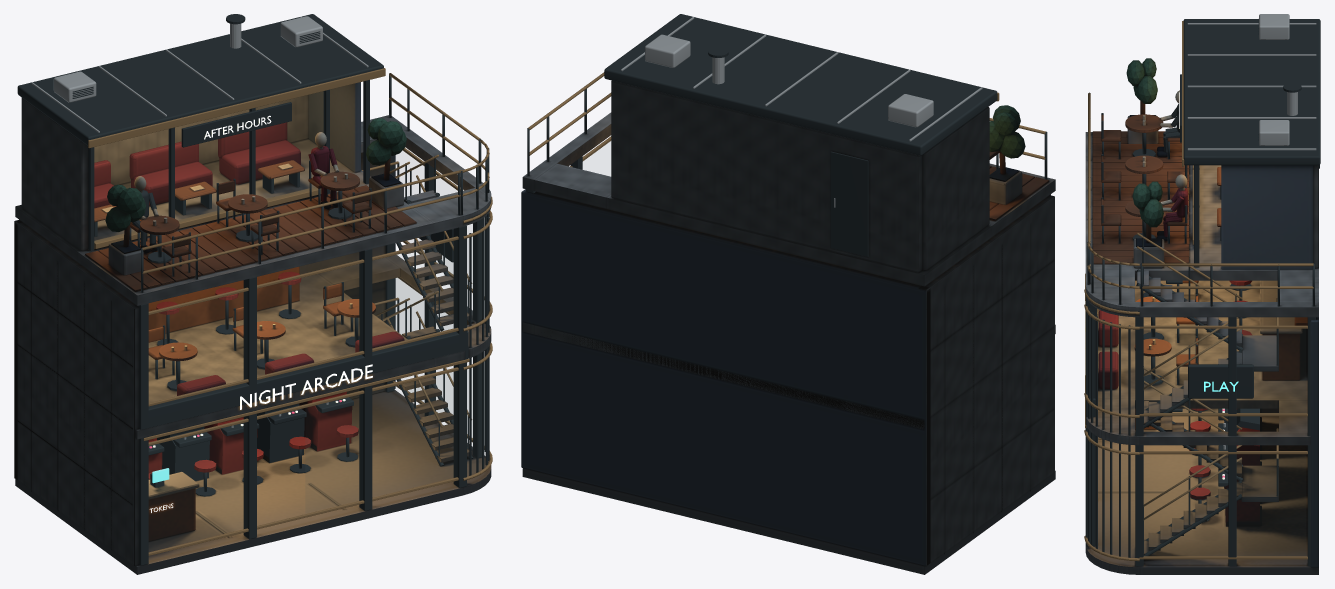
The model's file is arcade50.glb.
3 views of the same model, side by side, from view 1: azimuth 30°, elevation 25°; view 2: azimuth 150°, elevation 25°; view 3: azimuth 270°, elevation 25° (orthographic). The views are drawn at different scales.
Parts seen in each view (by area): view 1: ARCADE50R2_BAKED_DIFFUSE, A25_Pavilion roof structural plate.001, A25_Night Arcade fascia housing.001, A25_Front pier 3.001, A25_Front pier 1.001, A25_Front pier -1.001, A25_Pavilion fascia trim.001, A25_Front pier -4.001, A25_All architecturally fitted glazing.001, A25_Pavilion fascia title seat.001, A25_Ground arcade cabinet 4.001, A25_East pier -1.001 (+20 smaller); view 2: ARCADE50R2_BAKED_DIFFUSE, A25_Pavilion roof structural plate.001, A25_Pavilion rear access door.001, A25_Pavilion ventilation housing.002, A25_Pavilion ventilation housing.003; view 3: ARCADE50R2_BAKED_DIFFUSE, A25_Pavilion roof structural plate.001, A25_East pier 0.001, A25_East pier -1.001, A25_East small sign seat.001, A25_Front pier 3.001, A25_East pier 2.001, A25_Pavilion ventilation housing.002, A25_Pavilion ventilation housing.003, A25_Terrace east edge rail.003, A25_East bronze transom 0.001, A25_East bronze transom 2.001 (+17 smaller).
Part boxes in pixels (left/top/right/bottom): ARCADE50R2_BAKED_DIFFUSE: left=14, top=82, right=491, bottom=574; A25_Pavilion roof structural plate.001: left=17, top=14, right=383, bottom=145; A25_Night Arcade fascia housing.001: left=145, top=330, right=468, bottom=427; A25_Front pier 3.001: left=453, top=225, right=466, bottom=487; A25_Front pier 1.001: left=359, top=249, right=372, bottom=510; A25_Front pier -1.001: left=243, top=277, right=256, bottom=539; A25_Pavilion fascia trim.001: left=88, top=68, right=385, bottom=148; A25_Front pier -4.001: left=138, top=303, right=148, bottom=565; A25_All architecturally fitted glazing.001: left=394, top=237, right=472, bottom=438; A25_Pavilion fascia title seat.001: left=181, top=102, right=291, bottom=147; A25_Ground arcade cabinet 4.001: left=257, top=403, right=304, bottom=463; A25_East pier -1.001: left=473, top=217, right=484, bottom=457; ARCADE50R2_BAKED_DIFFUSE: left=521, top=80, right=1055, bottom=574; A25_Pavilion roof structural plate.001: left=604, top=14, right=997, bottom=155; A25_Pavilion rear access door.001: left=830, top=151, right=868, bottom=256; A25_Pavilion ventilation housing.002: left=888, top=94, right=933, bottom=127; A25_Pavilion ventilation housing.003: left=645, top=34, right=690, bottom=67; ARCADE50R2_BAKED_DIFFUSE: left=1085, top=58, right=1318, bottom=574; A25_Pavilion roof structural plate.001: left=1183, top=19, right=1320, bottom=165; A25_East pier 0.001: left=1228, top=317, right=1236, bottom=566; A25_East pier -1.001: left=1135, top=317, right=1143, bottom=566; A25_East small sign seat.001: left=1188, top=364, right=1253, bottom=398; A25_Front pier 3.001: left=1085, top=296, right=1096, bottom=546; A25_East pier 2.001: left=1307, top=317, right=1315, bottom=566; A25_Pavilion ventilation housing.002: left=1259, top=14, right=1289, bottom=39; A25_Pavilion ventilation housing.003: left=1259, top=120, right=1289, bottom=145; A25_Terrace east edge rail.003: left=1142, top=263, right=1313, bottom=266; A25_East bronze transom 0.001: left=1139, top=556, right=1307, bottom=559; A25_East bronze transom 2.001: left=1139, top=451, right=1307, bottom=454.
Size of the model in its own units: 9 by 9.73 by 5.09.
9 materials, 1 textured.
